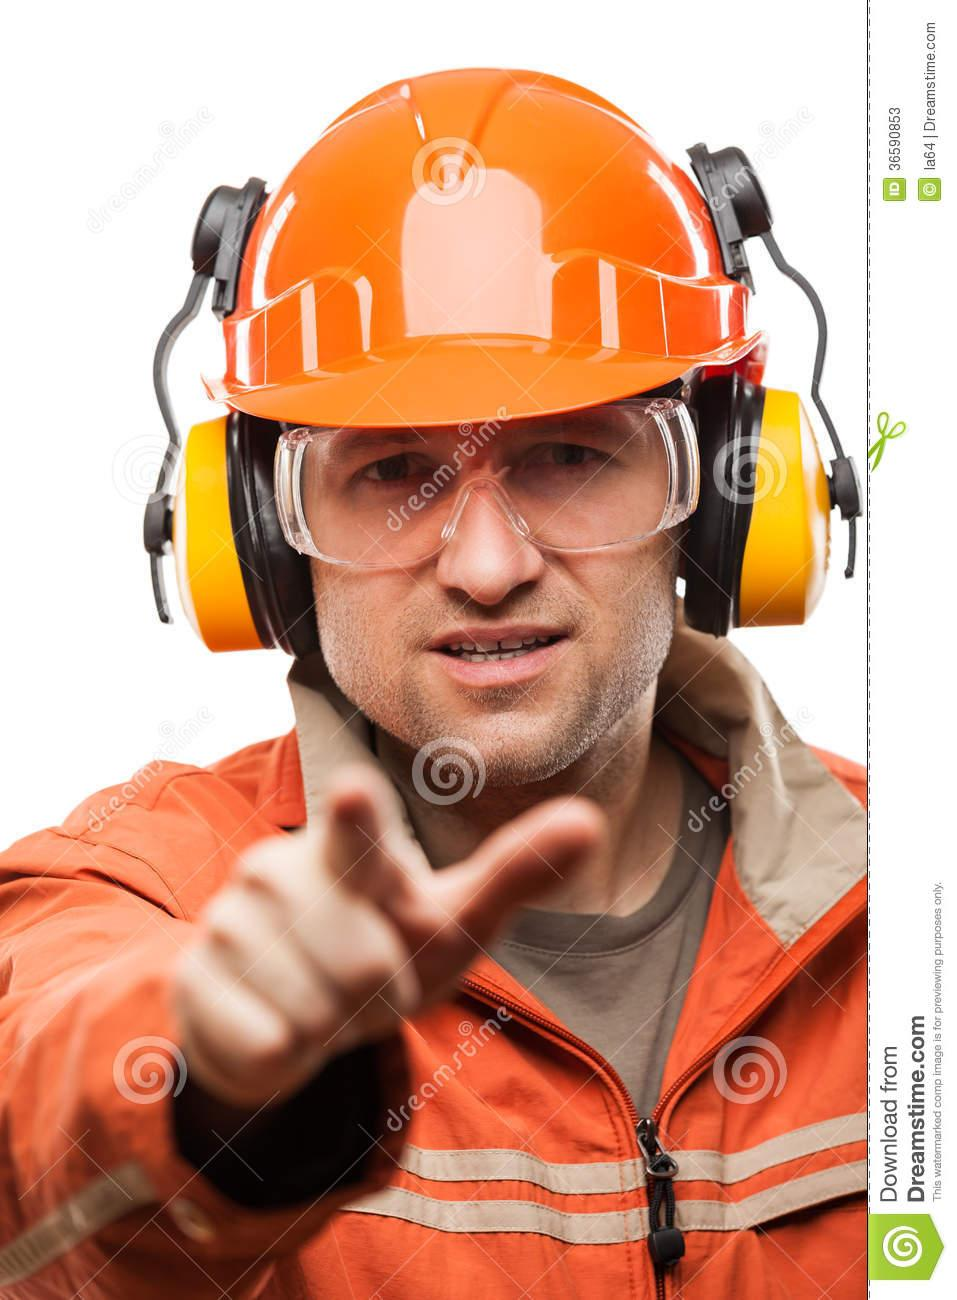helmet: (205, 67, 769, 425)
